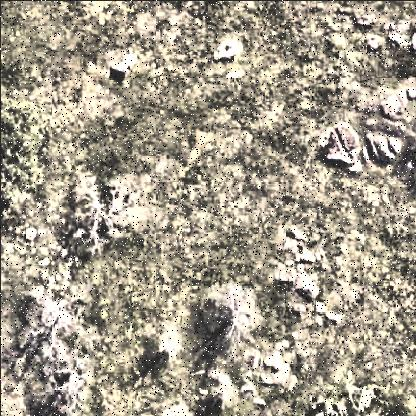tree-top: (62, 171, 142, 254), (11, 293, 88, 361), (1, 94, 42, 221), (194, 284, 267, 350), (39, 358, 97, 416), (149, 324, 190, 362)
